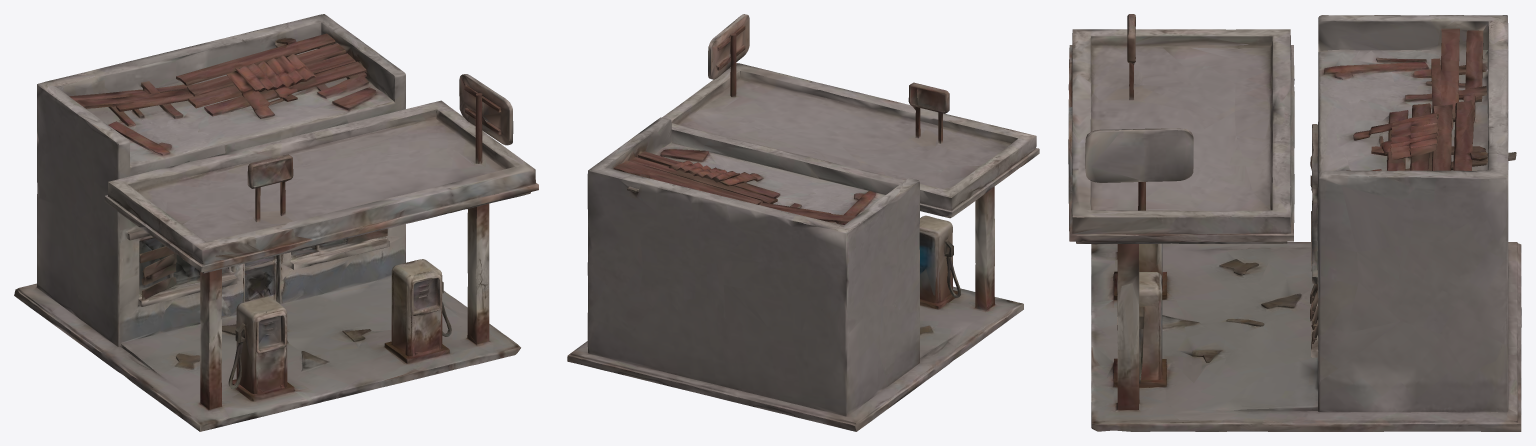
File: gas_station_idle.glb
3 renders of one model, left to right at view 1: azimuth 30°, elevation 25°; view 2: azimuth 150°, elevation 25°; view 3: azimuth 270°, elevation 25°, orthographic. The views are drawn at different scales.
Visible parts, largest first — view 1: tripo_node_a0e1234d-5f32-4bf4-bb31-82c315c24a5e; view 2: tripo_node_a0e1234d-5f32-4bf4-bb31-82c315c24a5e; view 3: tripo_node_a0e1234d-5f32-4bf4-bb31-82c315c24a5e.
Part boxes in pixels (x1,y1,x2,y2): tripo_node_a0e1234d-5f32-4bf4-bb31-82c315c24a5e: [14, 14, 538, 431]; tripo_node_a0e1234d-5f32-4bf4-bb31-82c315c24a5e: [567, 14, 1039, 431]; tripo_node_a0e1234d-5f32-4bf4-bb31-82c315c24a5e: [1068, 14, 1521, 431].
Size of the model in its own units: 14 by 10.05 by 14.02.
1 material, 1 textured.
